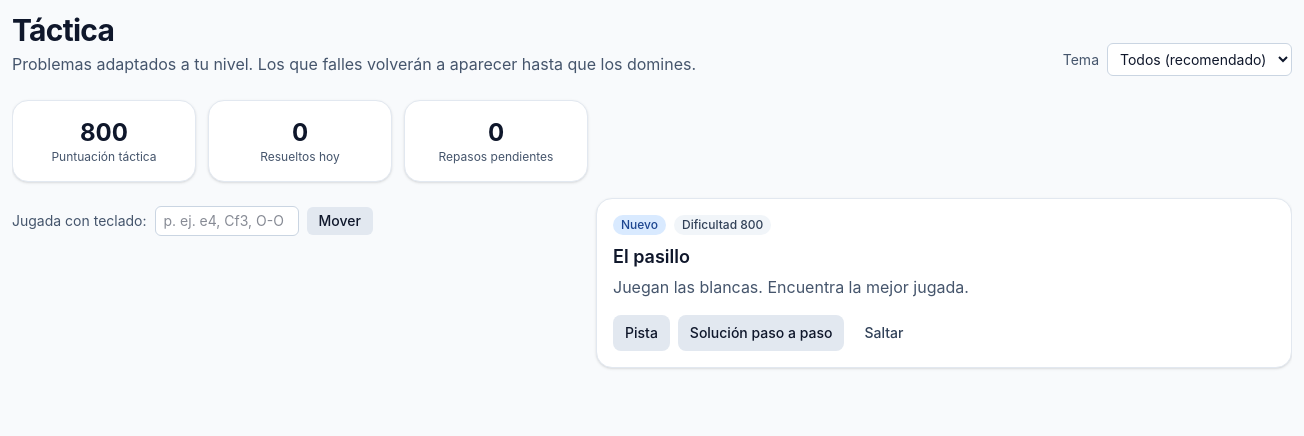
Test case: TacticsPage › un fallo cuenta como problema fallado y se programa su repaso
Check: the heading "El pasillo" is shown, box 613,246 -> 690,267
Type "Ta7" into the field labelled "Jugada con teclado:". click: (226, 221)
box: 154,206 -> 298,236
Then press Enter
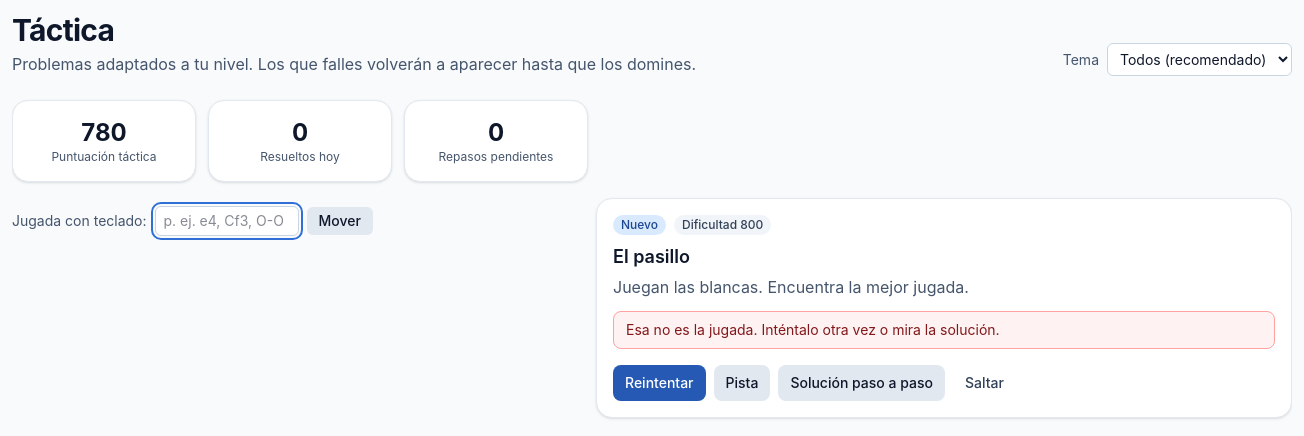
Check: the text "Esa no es la jugada. Inténtalo otra vez o mira la solución." is shown, box 613,311 -> 1275,349
